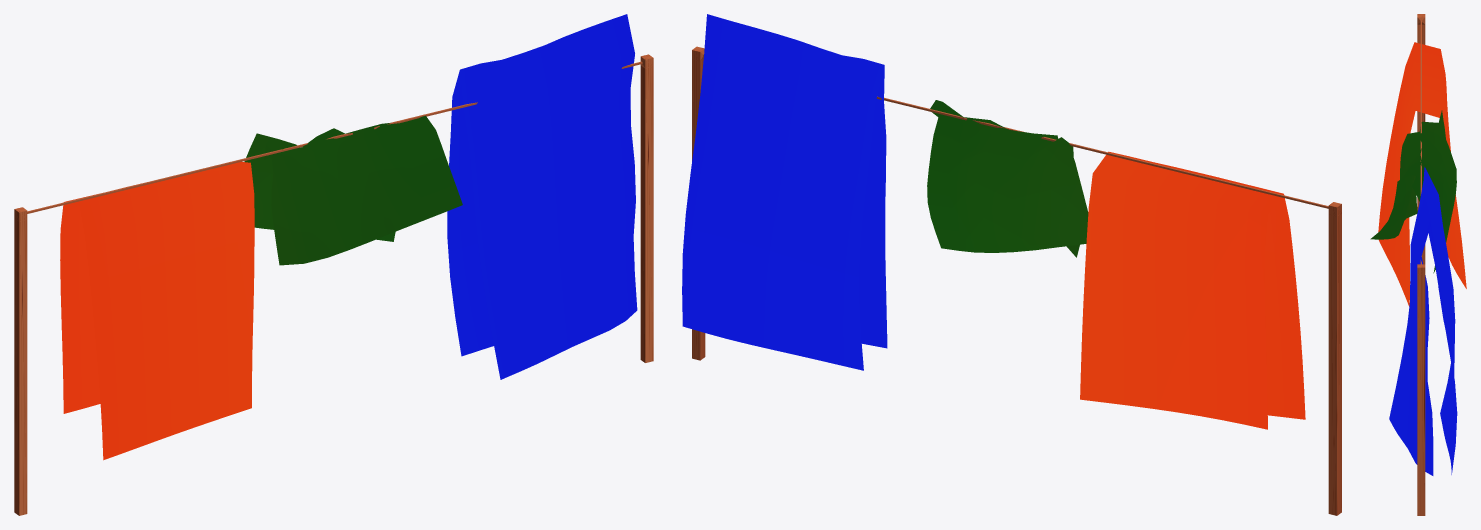
Rendered from Drying cloths.glb.
3 views of the same model, side by side, from view 1: azimuth 30°, elevation 25°; view 2: azimuth 150°, elevation 25°; view 3: azimuth 270°, elevation 25° (orthographic). The views are drawn at different scales.
Parts seen in each view (by area): view 1: Plane.035, Plane.033, Plane.034, Cube.001; view 2: Plane.035, Plane.033, Plane.034, Cube.001; view 3: Plane.035, Plane.033, Plane.034, Cube.001.
Boxes of the visible parts, x1,y1,x2,y2 form: Plane.035: [447, 14, 637, 379]; Plane.033: [60, 162, 254, 460]; Plane.034: [244, 115, 462, 265]; Cube.001: [14, 54, 653, 515]; Plane.035: [682, 14, 887, 370]; Plane.033: [1080, 151, 1305, 429]; Plane.034: [927, 100, 1088, 257]; Cube.001: [692, 46, 1341, 515]; Plane.035: [1389, 167, 1457, 475]; Plane.033: [1378, 42, 1466, 306]; Plane.034: [1370, 110, 1456, 273]; Cube.001: [1417, 14, 1425, 515].
Size of the model in its own units: 7.4 by 3.85 by 1.19.
2 materials, 2 textured.
